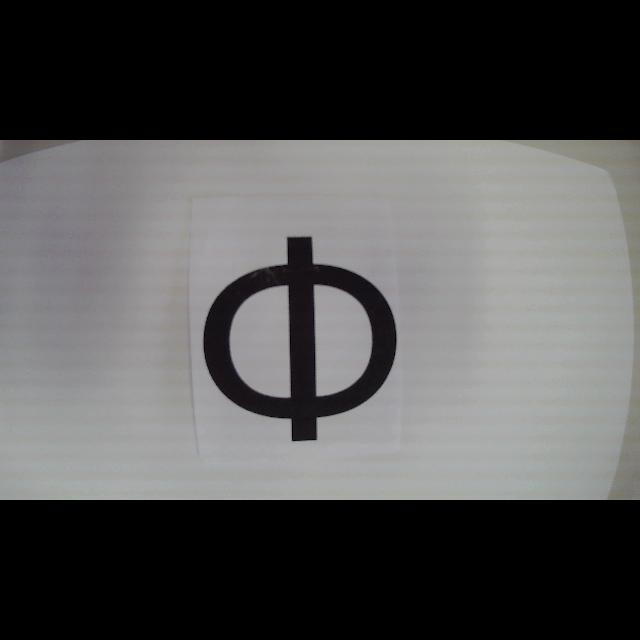PHI: (202, 233, 400, 441)
